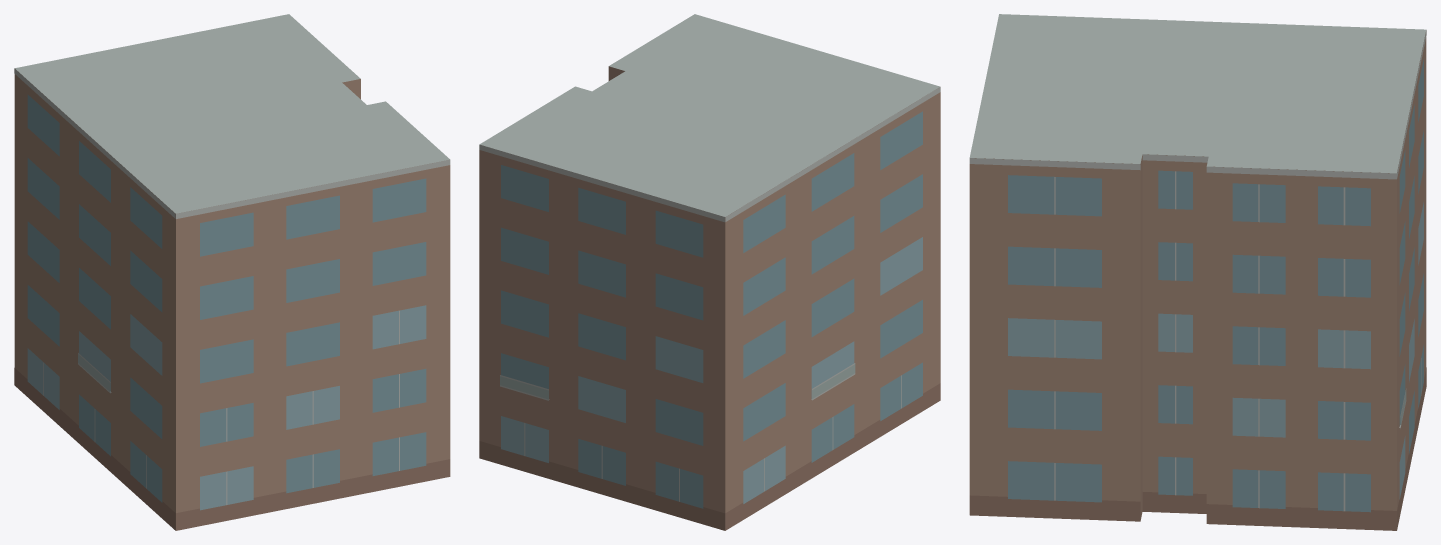
The model's file is survey-upis-32541246.glb.
The picture shows the model from 3 angles, left to right: view 1: azimuth 30°, elevation 25°; view 2: azimuth 150°, elevation 25°; view 3: azimuth 270°, elevation 25°; orthographic projection. The views are drawn at different scales.
Visible parts, largest first — view 1: survey-upis-32541246.tmp; view 2: survey-upis-32541246.tmp; view 3: survey-upis-32541246.tmp.
Part boxes in pixels (<box>): survey-upis-32541246.tmp: <box>14,14,450,530</box>; survey-upis-32541246.tmp: <box>479,14,940,530</box>; survey-upis-32541246.tmp: <box>969,14,1426,530</box>.
Bounding box in the file's own units: 13.68 × 14.3 × 16.57.
